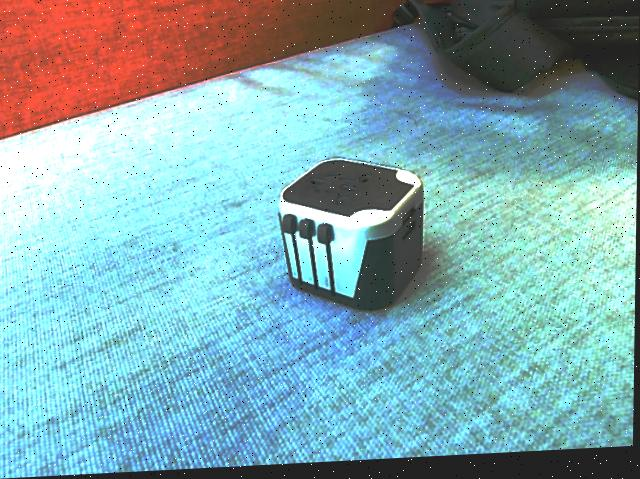adapter: (276, 157, 426, 319)
